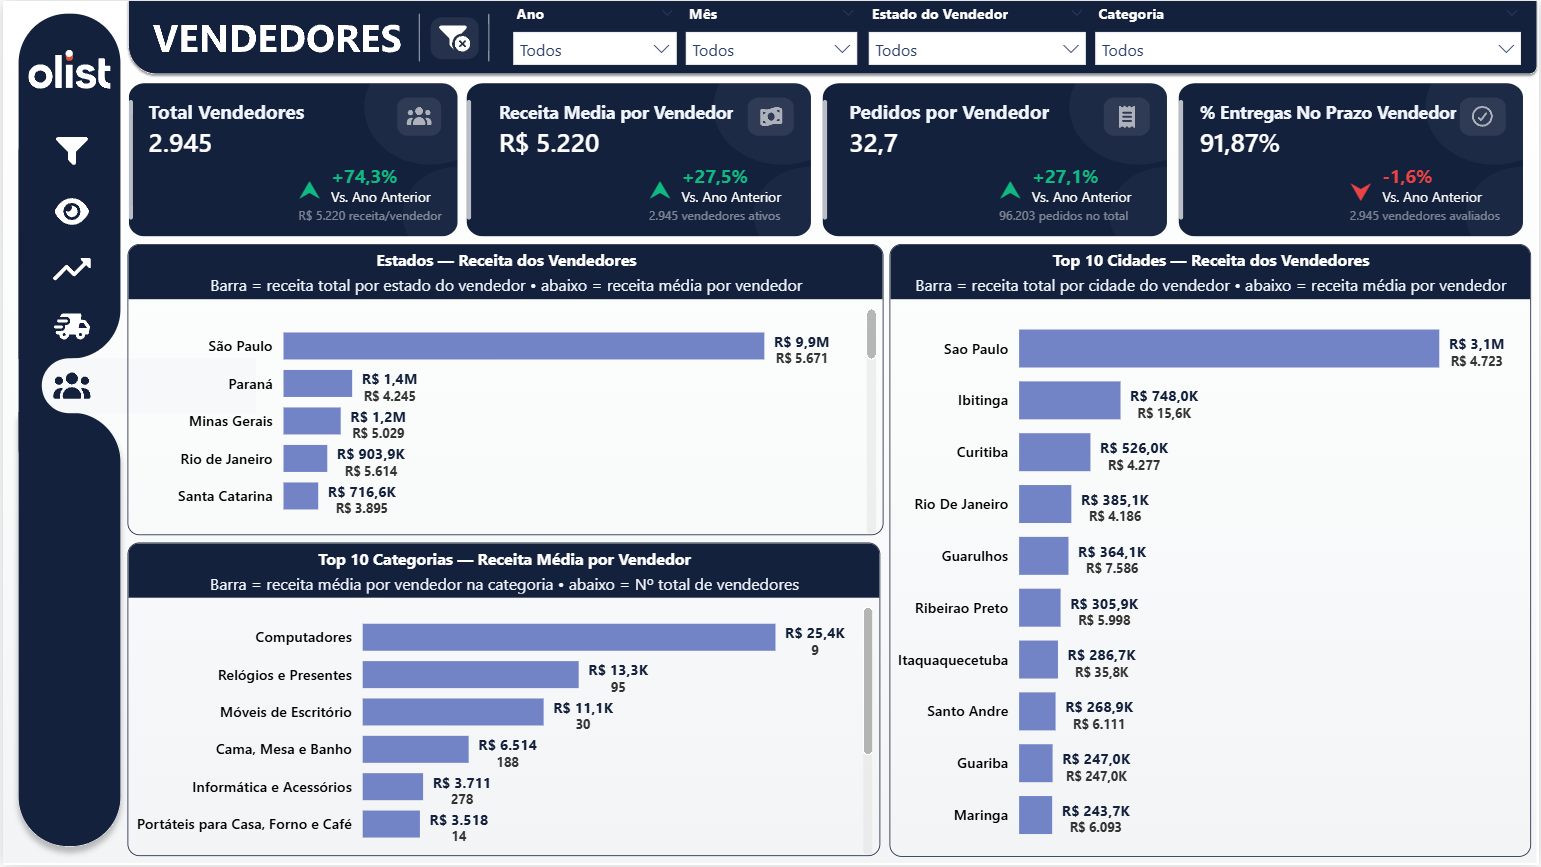

What the dashboard file says about the page in this screenshot:
{"tool":"powerbi","page":{"name":"VENDEDORES","canvas":[1280,720],"ordinal":4},"visuals":[{"type":"group","id":"g1","title":"g_topbar","box":[350,3,920,58],"z":0},{"type":"group","id":"g2","title":"g_dados","box":[101.2,63.8,1178.8,649.4],"z":2000},{"type":"group","id":"g3","title":"g_btn_navegacao","box":[19,33,75,310.4],"z":2500},{"type":"cardVisual","title":"grid_cartao","fields":{"Data":["_Medidas.Total Vendedores","_Medidas.Receita Media por Vendedor","_Medidas.Pedidos por Vendedor","_Medidas.% Entregas No Prazo Vendedor"]},"box":[101.2,63.8,1178.8,140],"z":2501,"group":"g2"},{"type":"clusteredBarChart","title":"Top 10 Categorias — Receita Média por Vendedor","fields":{"Category":["Categoria.Categoria"],"Y":["_Medidas.Receita Media por Vendedor"]},"box":[104.3,451.5,627.1,261.4],"z":3000,"group":"g5"},{"type":"group","id":"g4","title":"g_filtros","box":[420,3,850,58],"z":3001,"group":"g1"},{"type":"group","id":"g5","title":"g_graficos","box":[104,202.5,1169.2,510.7],"z":3001,"group":"g2"},{"type":"clusteredBarChart","title":"Top 10 Cidades — Receita dos Vendedores","fields":{"Category":["Vendedor.Cidade Vendedor"],"Y":["_Medidas.Receita Vendedores"]},"box":[738.9,202.5,534.4,510.7],"z":4000,"group":"g5"},{"type":"actionButton","title":"btn_vendedores","box":[35.5,302.6,42.2,40.9],"z":4000,"group":"g3"},{"type":"actionButton","title":"btn_logistica","box":[35.6,255,42.2,41.1],"z":4062,"group":"g3"},{"type":"actionButton","title":"btn_comercial","box":[35.6,203,42.2,41.1],"z":4125,"group":"g3"},{"type":"actionButton","title":"btn_visao_geral","box":[35,155.2,42.2,41.3],"z":4250,"group":"g3"},{"type":"actionButton","title":"btn_menu_on","box":[35.8,104.2,42.1,41.1],"z":4375,"group":"g3"},{"type":"slicer","title":"Categoria","fields":{"Values":["Categoria.Categoria"]},"box":[905,3,365,56],"z":4500,"group":"g4"},{"type":"actionButton","title":"btn_home","box":[19,33,75,46.4],"z":4500,"group":"g3"},{"type":"slicer","title":"Estado do Vendedor","fields":{"Values":["Dim_Vendedor.Estado Vendedor"]},"box":[716,3,191,57],"z":5000,"group":"g4"},{"type":"clusteredBarChart","title":"Estados — Receita dos Vendedores","fields":{"Category":["Estado.Estado Nome"],"Y":["_Medidas.Receita Vendedores"]},"box":[104,202.9,630,242.9],"z":5000,"group":"g5"},{"type":"slicer","title":"Mês","fields":{"Values":["Calendario.MesNome"]},"box":[564,3,153,56],"z":5125,"group":"g4"},{"type":"slicer","title":"Ano","fields":{"Values":["Dim_Calendario.Ano"]},"box":[420,3,146,58],"z":5250,"group":"g4"},{"type":"actionButton","title":"btn_reset_filtro_rapido","box":[350,10.4,52.1,41.1],"z":5500,"group":"g1"}]}

Visuals, with their boxes in screenshot pixels (x1, y1, x2, y2), scaled from the page's 1280x720 canvas onto the 1541x867 screenshot:
"g_topbar" group: bbox(421, 4, 1529, 73)
"g_dados" group: bbox(122, 77, 1540, 859)
"g_btn_navegacao" group: bbox(23, 40, 113, 414)
"grid_cartao" cardVisual: bbox(122, 77, 1540, 245)
"Top 10 Categorias — Receita Média por Vendedor" clusteredBarChart: bbox(126, 544, 881, 858)
"g_filtros" group: bbox(506, 4, 1529, 73)
"g_graficos" group: bbox(125, 244, 1533, 859)
"Top 10 Cidades — Receita dos Vendedores" clusteredBarChart: bbox(890, 244, 1533, 859)
"btn_vendedores" actionButton: bbox(43, 364, 94, 414)
"btn_logistica" actionButton: bbox(43, 307, 94, 357)
"btn_comercial" actionButton: bbox(43, 244, 94, 294)
"btn_visao_geral" actionButton: bbox(42, 187, 93, 237)
"btn_menu_on" actionButton: bbox(43, 125, 94, 175)
"Categoria" slicer: bbox(1090, 4, 1529, 71)
"btn_home" actionButton: bbox(23, 40, 113, 96)
"Estado do Vendedor" slicer: bbox(862, 4, 1092, 72)
"Estados — Receita dos Vendedores" clusteredBarChart: bbox(125, 244, 884, 537)
"Mês" slicer: bbox(679, 4, 863, 71)
"Ano" slicer: bbox(506, 4, 681, 73)
"btn_reset_filtro_rapido" actionButton: bbox(421, 13, 484, 62)
